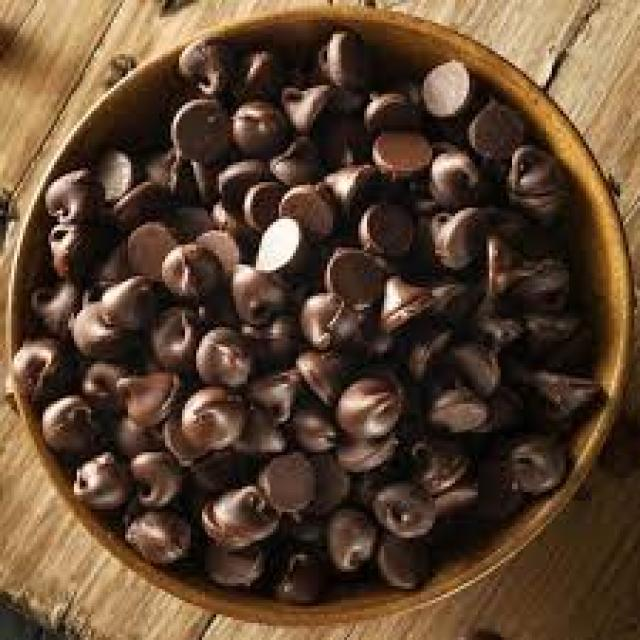Chocolate: (18, 30, 600, 599)
